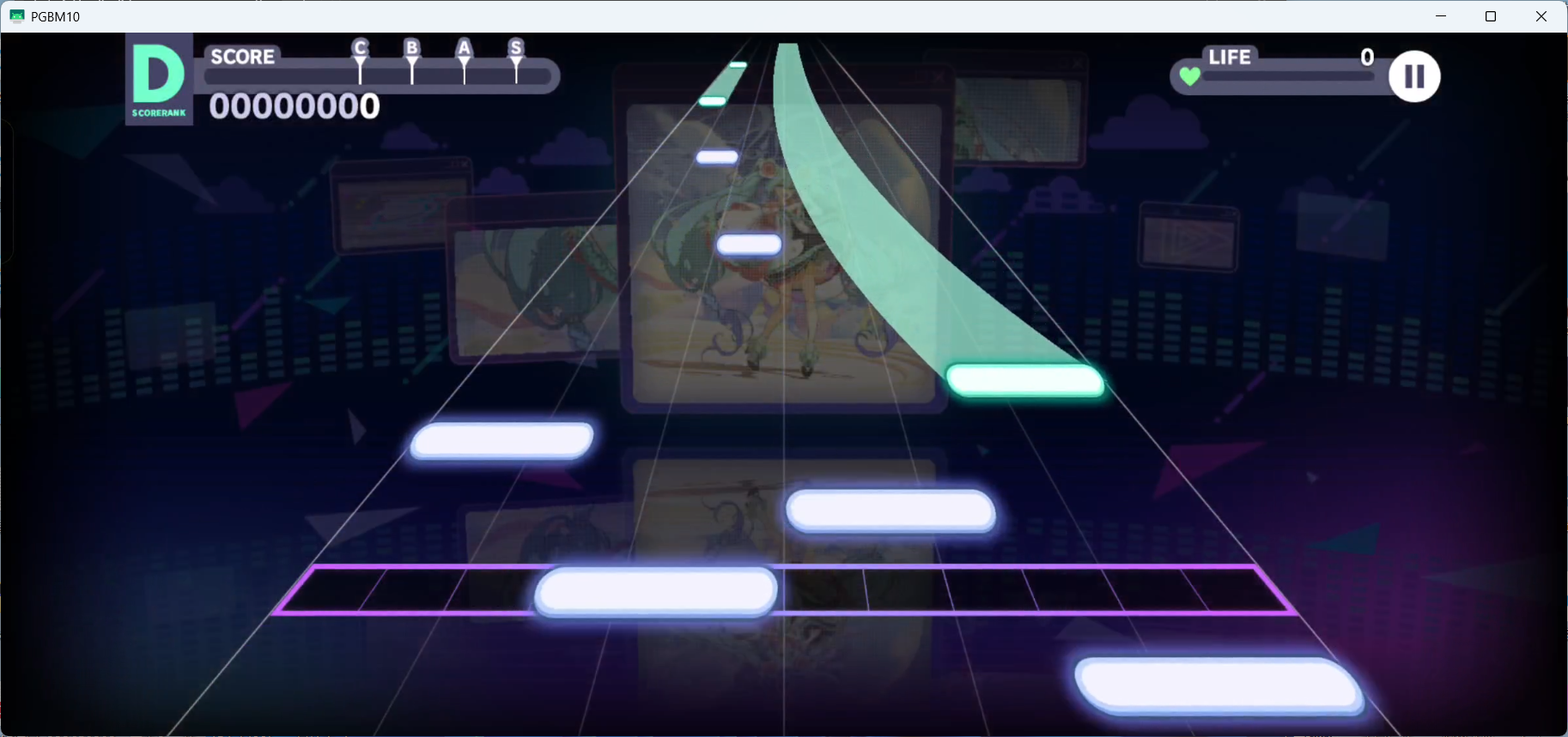hold: (772, 42, 1085, 364), (700, 69, 745, 97)
tap: (1073, 656, 1366, 717), (534, 565, 779, 619), (787, 487, 998, 535), (410, 421, 593, 459), (945, 364, 1105, 399), (716, 233, 781, 256), (696, 149, 738, 165), (697, 96, 726, 106), (728, 61, 746, 68)
